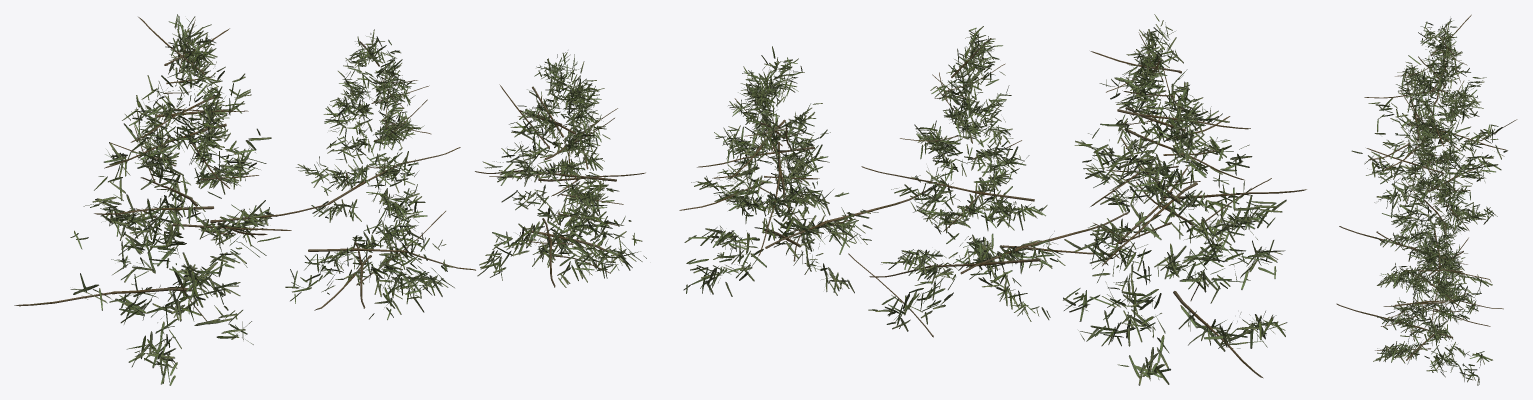
The model's file is fir_sapling_medium_leaf.glb.
The picture shows the model from 3 angles, left to right: view 1: azimuth 30°, elevation 25°; view 2: azimuth 150°, elevation 25°; view 3: azimuth 270°, elevation 25°; orthographic projection. The views are drawn at different scales.
Parts seen in each view (by area): view 1: fir_sapling_medium_a_LOD0, fir_sapling_medium_b_LOD0, fir_sapling_medium_c_LOD0; view 2: fir_sapling_medium_a_LOD0, fir_sapling_medium_b_LOD0, fir_sapling_medium_c_LOD0; view 3: fir_sapling_medium_a_LOD0, fir_sapling_medium_c_LOD0, fir_sapling_medium_b_LOD0.
Boxes of the visible parts, bbox=[...] form: fir_sapling_medium_a_LOD0: bbox=[14, 14, 328, 385]; fir_sapling_medium_b_LOD0: bbox=[285, 29, 475, 320]; fir_sapling_medium_c_LOD0: bbox=[475, 52, 646, 287]; fir_sapling_medium_a_LOD0: bbox=[1063, 14, 1306, 385]; fir_sapling_medium_b_LOD0: bbox=[848, 26, 1128, 337]; fir_sapling_medium_c_LOD0: bbox=[679, 46, 929, 296]; fir_sapling_medium_a_LOD0: bbox=[1351, 14, 1517, 243]; fir_sapling_medium_c_LOD0: bbox=[1336, 216, 1503, 385]; fir_sapling_medium_b_LOD0: bbox=[1339, 109, 1492, 320].
Size of the model in its own units: 15.61 by 8.74 by 6.23.
1 material, 1 textured.
